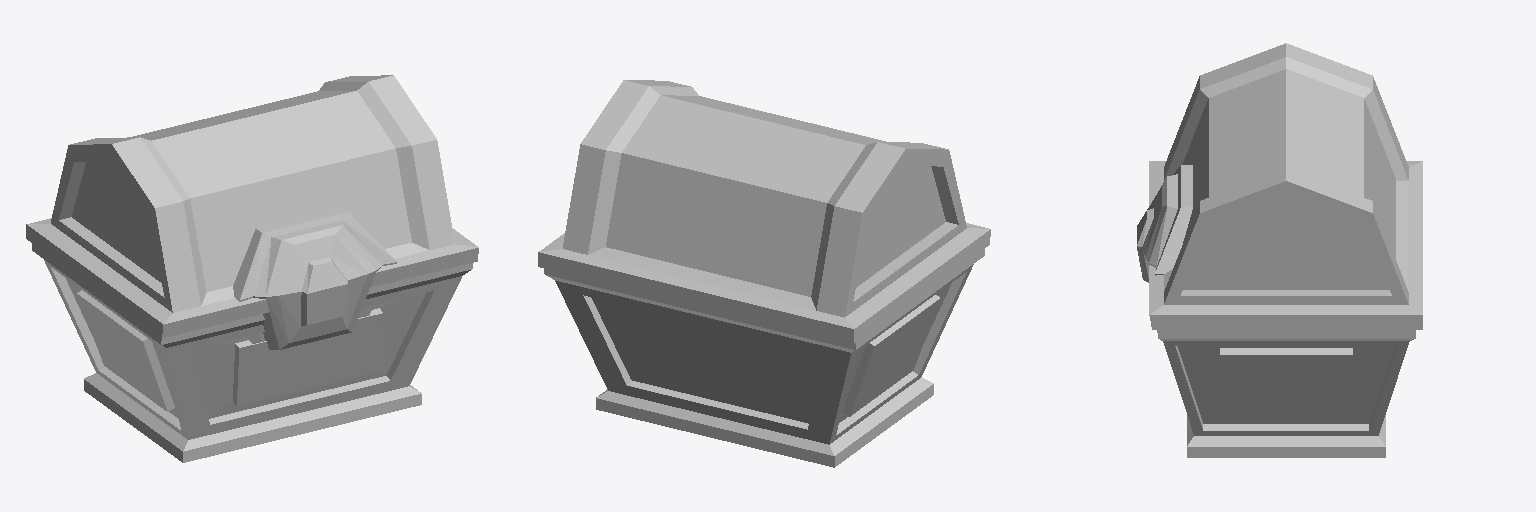
The model's file is Coffer.obj.
3 views of the same model, side by side, from view 1: azimuth 30°, elevation 25°; view 2: azimuth 150°, elevation 25°; view 3: azimuth 270°, elevation 25° (orthographic).
Parts seen in each view (by area): view 1: group1 pCylinder1, pCube1 group1, group1 pCube2; view 2: group1 pCylinder1, pCube1 group1; view 3: group1 pCylinder1, pCube1 group1, group1 pCube2.
Boxes of the visible parts, x1,y1,x2,y2 form: group1 pCylinder1: [26, 75, 478, 337]; pCube1 group1: [32, 244, 472, 462]; group1 pCube2: [233, 207, 396, 349]; group1 pCylinder1: [538, 80, 990, 343]; pCube1 group1: [544, 249, 984, 467]; group1 pCylinder1: [1149, 43, 1422, 329]; pCube1 group1: [1157, 330, 1415, 457]; group1 pCube2: [1137, 165, 1192, 282].
Bounding box in the file's own units: 1.98 × 1.72 × 1.56.